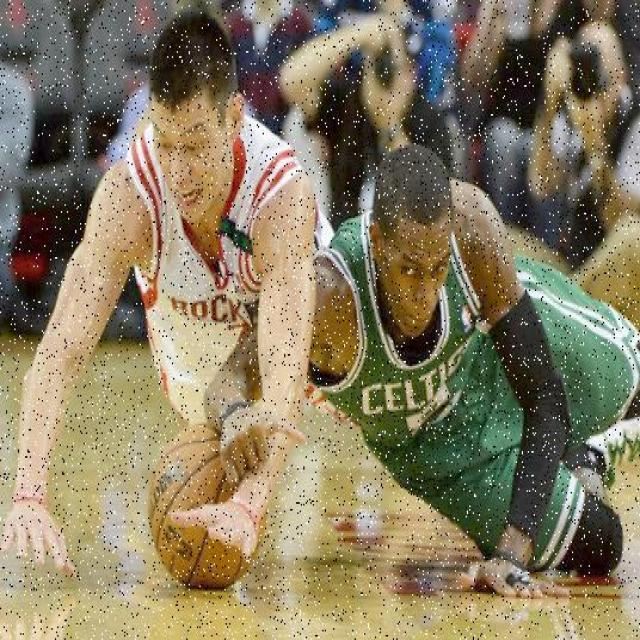fall: (286, 177, 638, 589)
